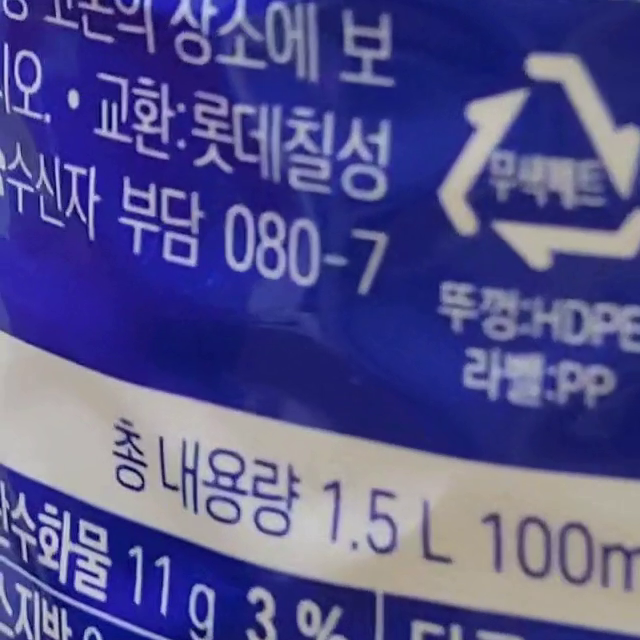ColorlessPet: (435, 55, 639, 274)
